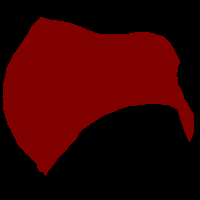mutande: (2, 16, 194, 176)
